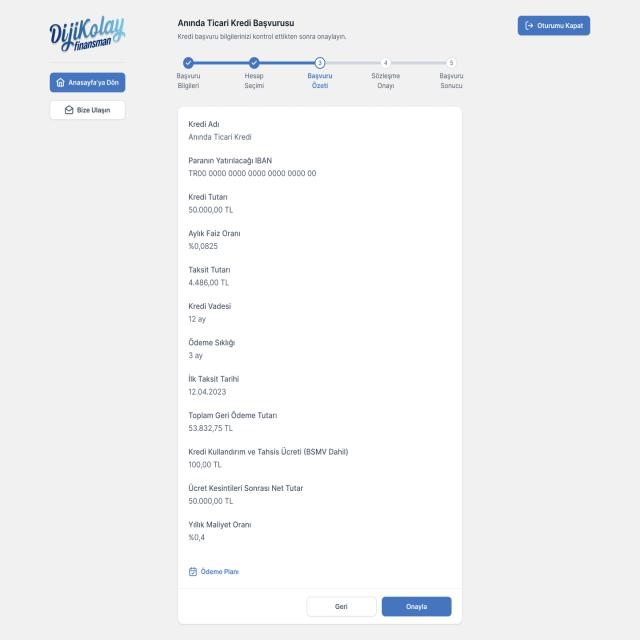QLabel: (187, 447, 350, 457), (176, 32, 348, 41), (188, 169, 317, 179), (187, 483, 305, 493), (176, 19, 295, 28), (188, 411, 278, 420), (187, 156, 273, 165), (187, 520, 252, 529), (185, 373, 240, 383), (187, 337, 236, 348), (187, 133, 253, 141), (187, 229, 242, 238), (200, 566, 239, 577), (68, 79, 120, 87), (187, 278, 231, 287), (187, 459, 223, 470), (536, 22, 585, 30), (186, 192, 229, 201), (185, 302, 232, 310), (187, 424, 234, 432), (188, 206, 235, 214), (186, 265, 232, 273), (188, 497, 233, 505), (76, 106, 112, 116), (186, 387, 228, 395), (186, 120, 222, 128), (188, 242, 218, 250), (405, 604, 428, 612), (188, 533, 206, 543), (187, 351, 206, 360), (187, 316, 207, 324), (334, 602, 348, 610)
VBtn: (49, 99, 126, 121), (518, 15, 590, 36), (49, 73, 126, 92), (306, 596, 377, 616), (382, 597, 451, 616), (186, 565, 244, 579)
VCard: (178, 106, 463, 625)
VDivider: (178, 586, 462, 590)
VIcon: (54, 76, 66, 88), (63, 104, 75, 116), (522, 20, 535, 31), (188, 566, 198, 577)
VImg: (44, 8, 130, 61)
VStepper: (174, 53, 466, 99)
